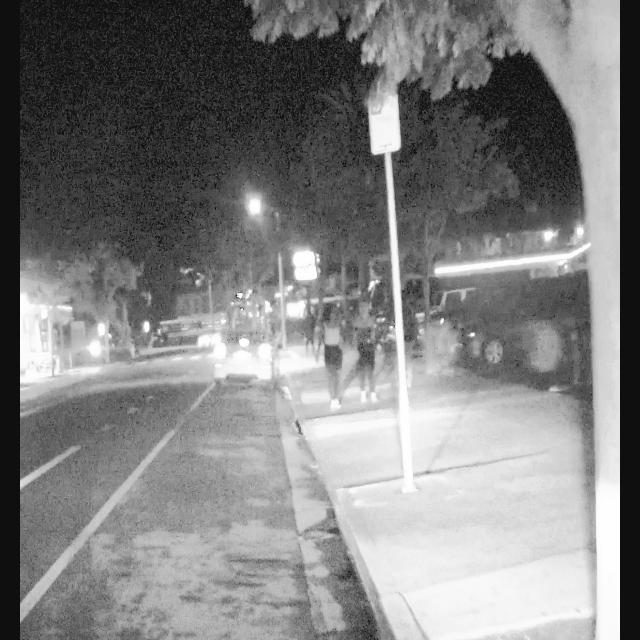Sign: (369, 87, 401, 155)
Tree: (544, 1, 622, 640)
